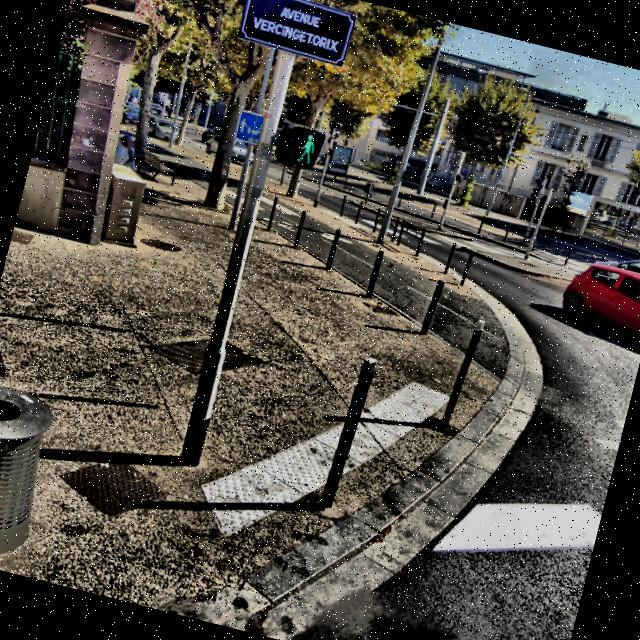green_light: (292, 127, 320, 166)
